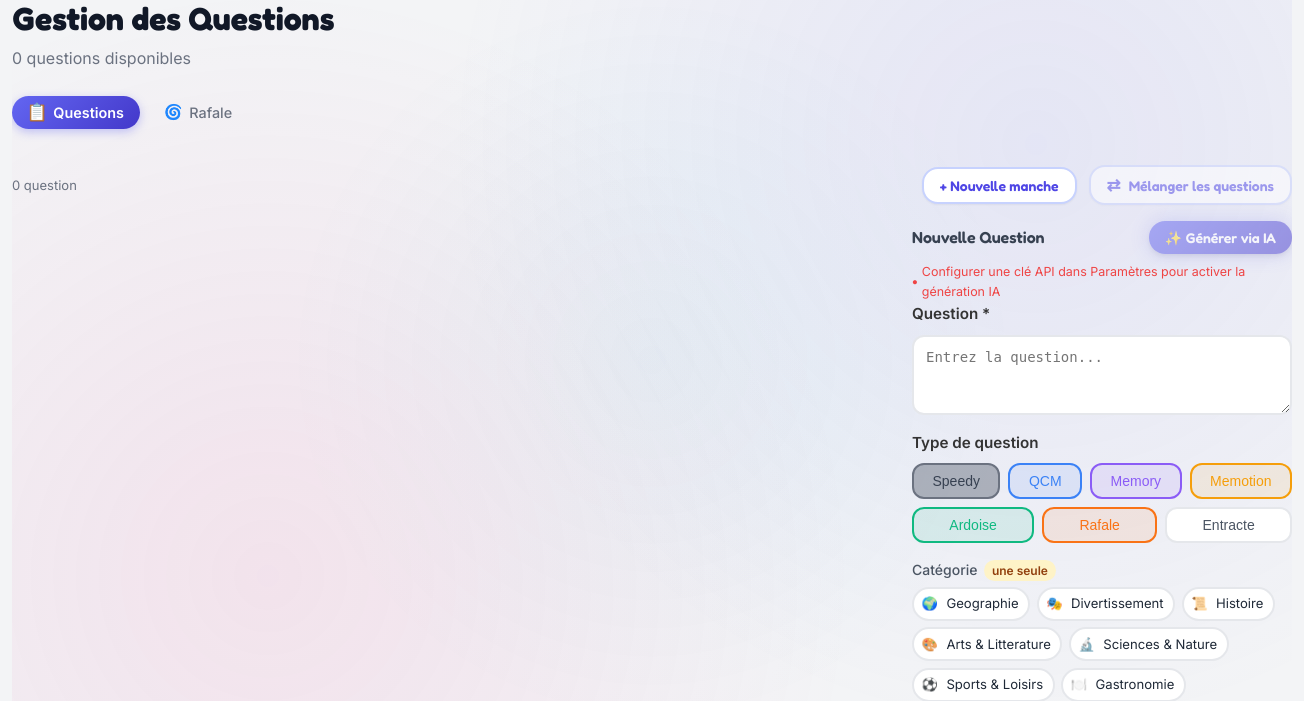
Éditeur — le sous-éditeur QCM d'une carte MEMOTION n'a plus d'indices (#279) › NR hôte — cocher les indices d'une question QCM affiche les réglages (Indice 1 / Indice 2)
What coordinates should you click on to do the following:
click the button "QCM"
I would click on:
 (1045, 481)
Its box is [1008,463,1082,499].
(page scrolled)
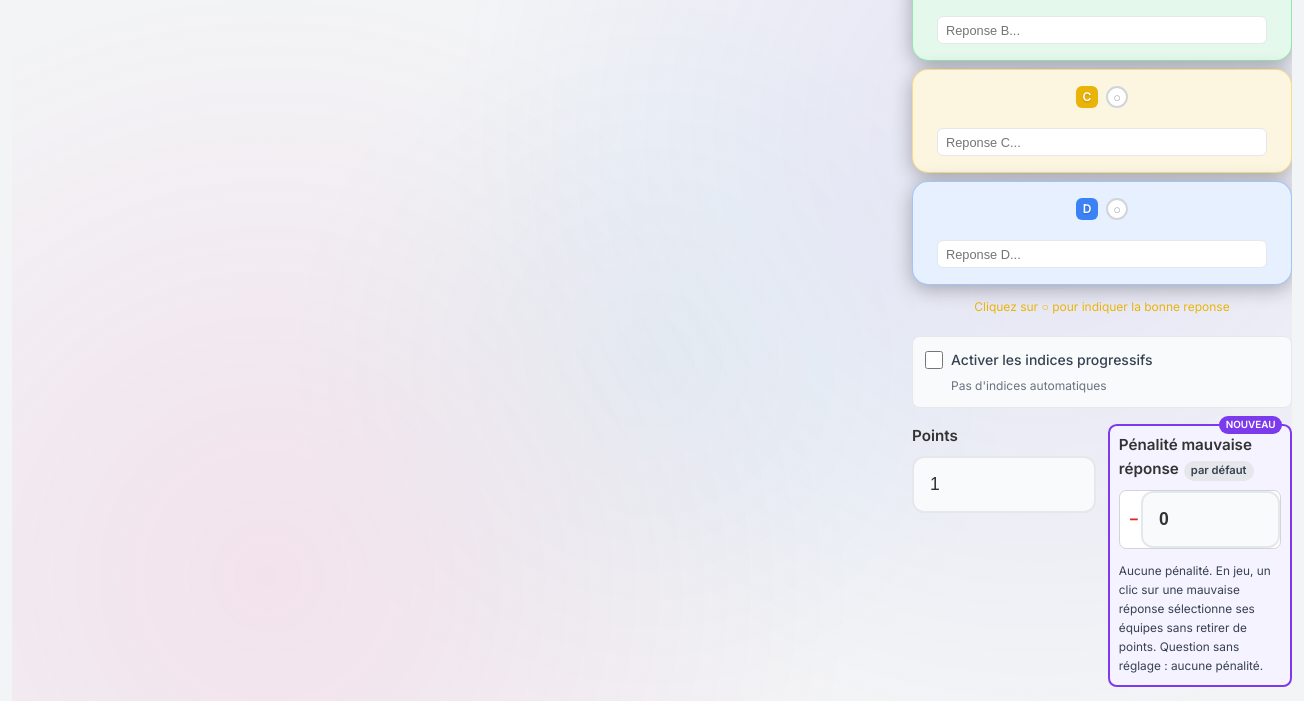
What coordinates should you click on to do the following:
click the checkbox labelled "Activer les indices progressifs"
I would click on:
 (934, 360)
Its box is [925,351,943,369].
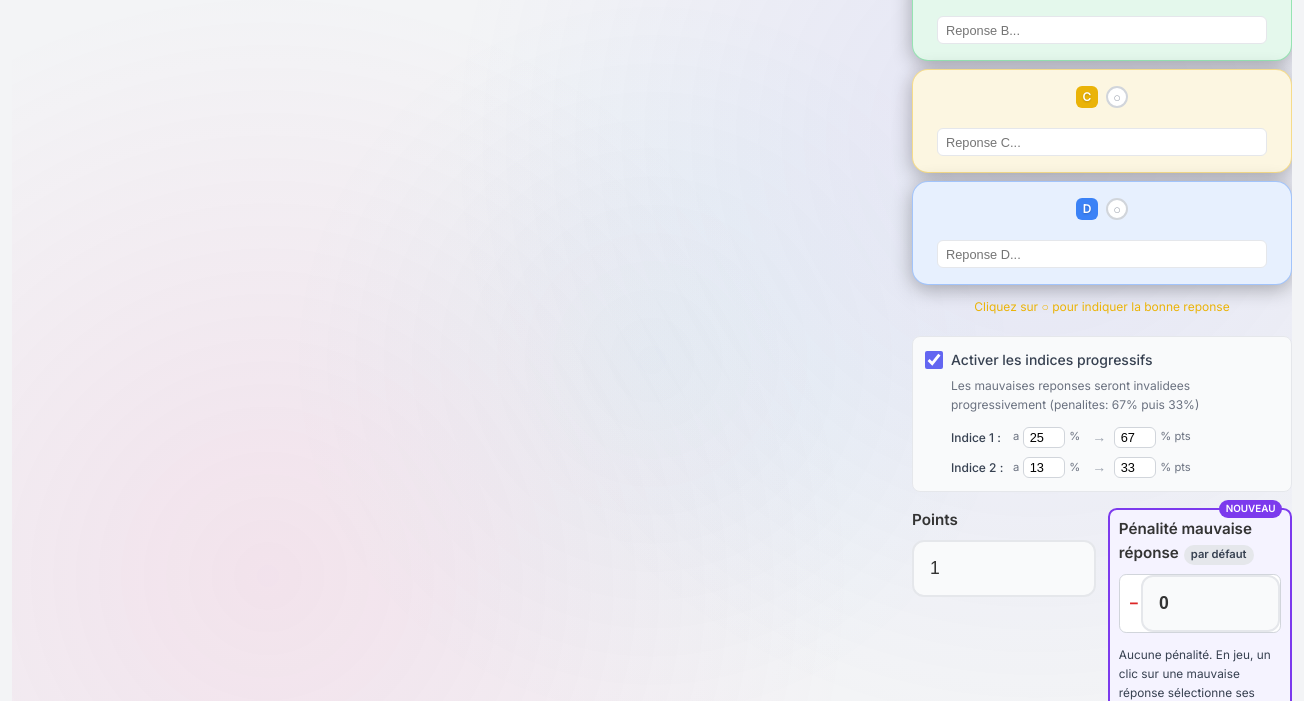
Expected: the text "Indice 1 :" is shown, [951,428,1009,447]
Expected: the text "Indice 2 :" is shown, [951,458,1009,477]
